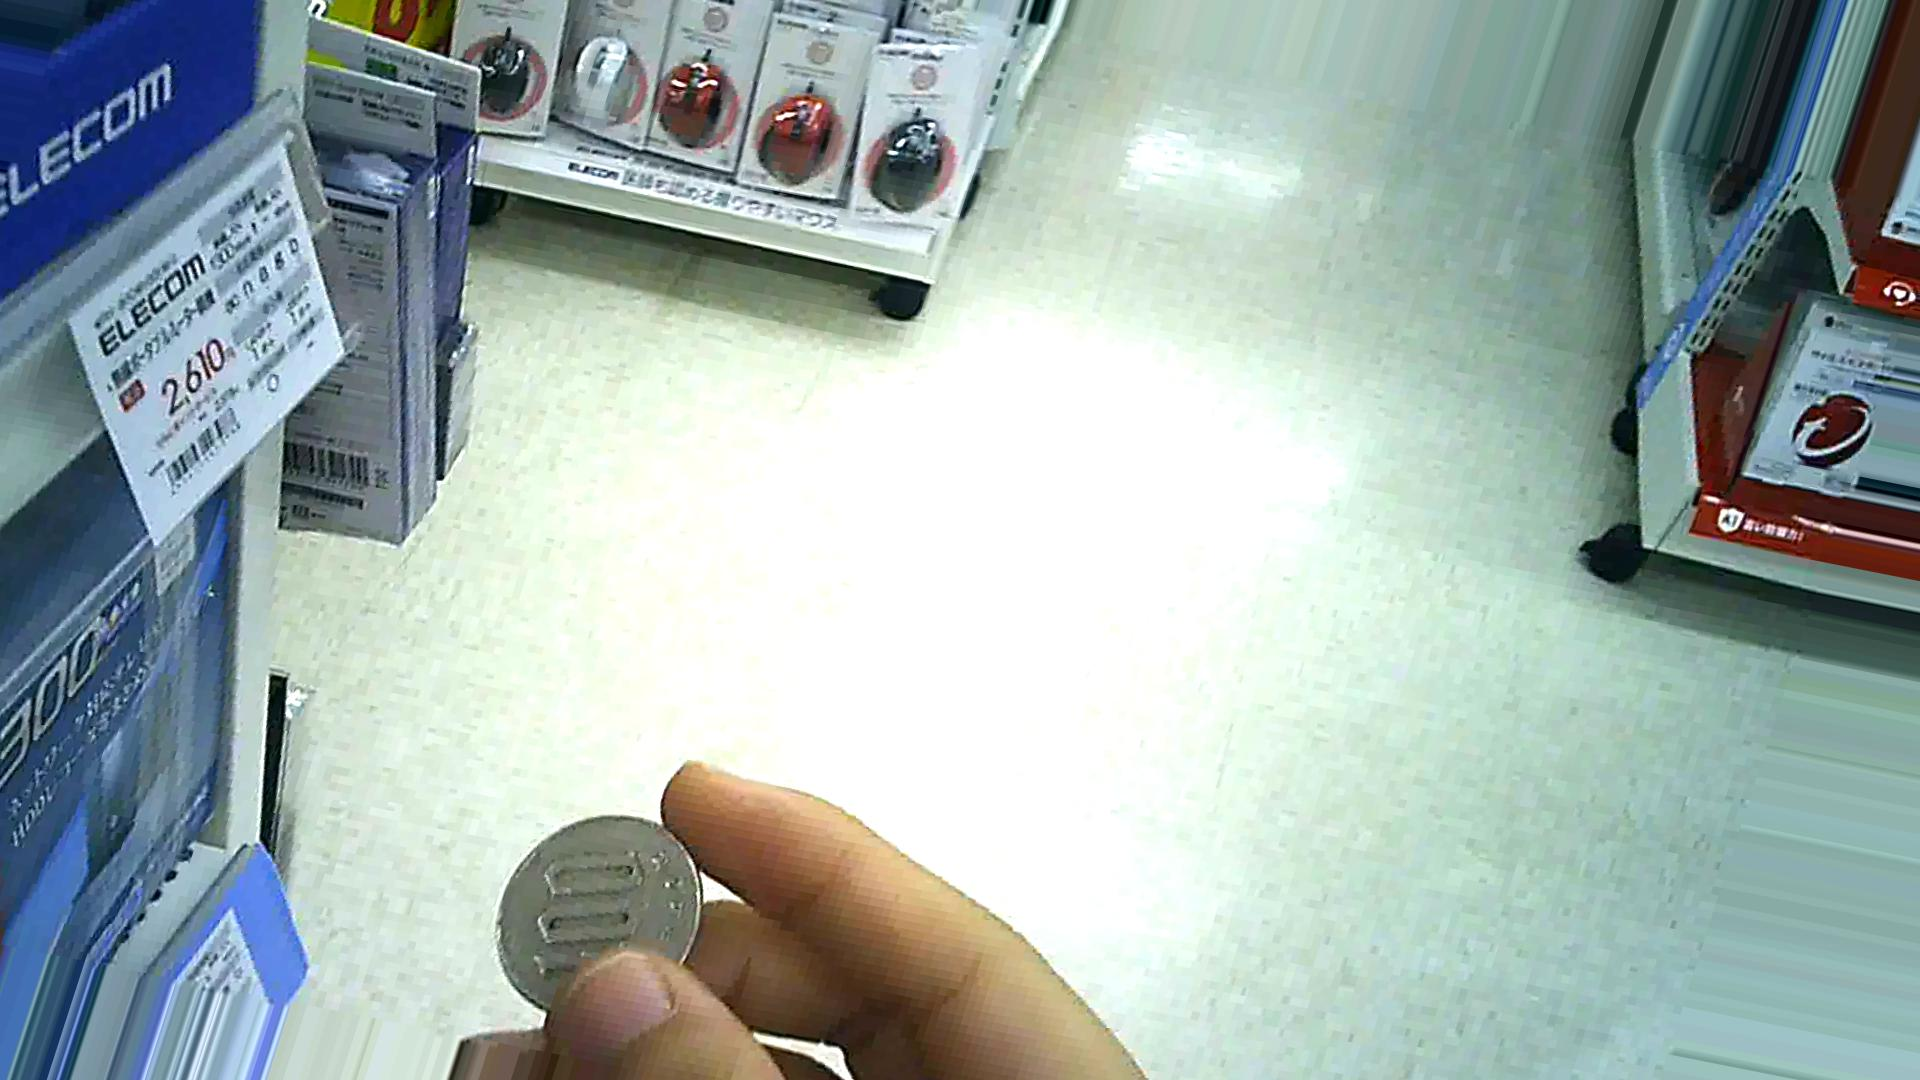100 Yen: (498, 808, 709, 989)
